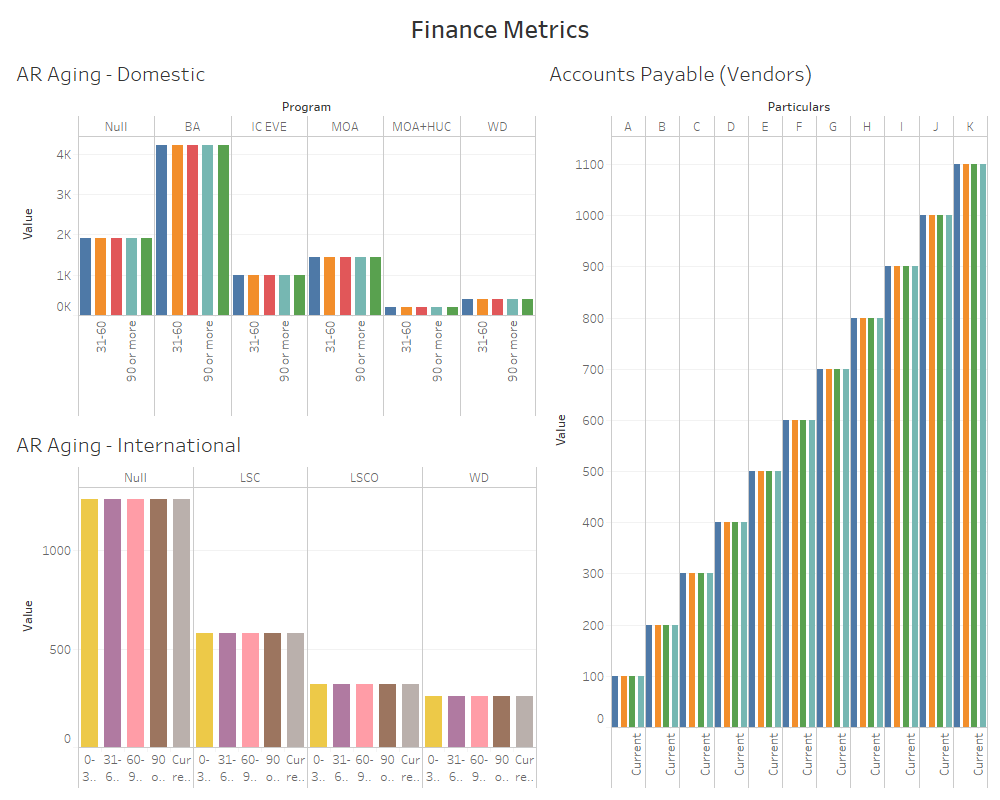

What the dashboard file says about the page in this screenshot:
{"tool":"tableau","page":{"name":"Finance","canvas":[1000,800],"ordinal":2},"visuals":[{"type":"title","box":[8,8,984,41]},{"type":"worksheet","title":"AR - Dom","mark":"Automatic","cols":["Program"],"box":[8,49,533,371.5]},{"type":"worksheet","title":"AP","mark":"Automatic","cols":["Particulars "],"box":[541,49,451,743]},{"type":"worksheet","title":"AR - Intl","mark":"Automatic","cols":["Program (FIN_df3.csv)"],"box":[8,420.5,533,371.5]}]}

Visuals, with their boxes in screenshot pixels (x1, y1, x2, y2), scaled from the page's 1000x800 canvas onto the 1000x800 screenshot:
title: bbox=(8, 8, 992, 49)
"AR - Dom" worksheet: bbox=(8, 49, 541, 420)
"AP" worksheet: bbox=(541, 49, 992, 792)
"AR - Intl" worksheet: bbox=(8, 420, 541, 792)
